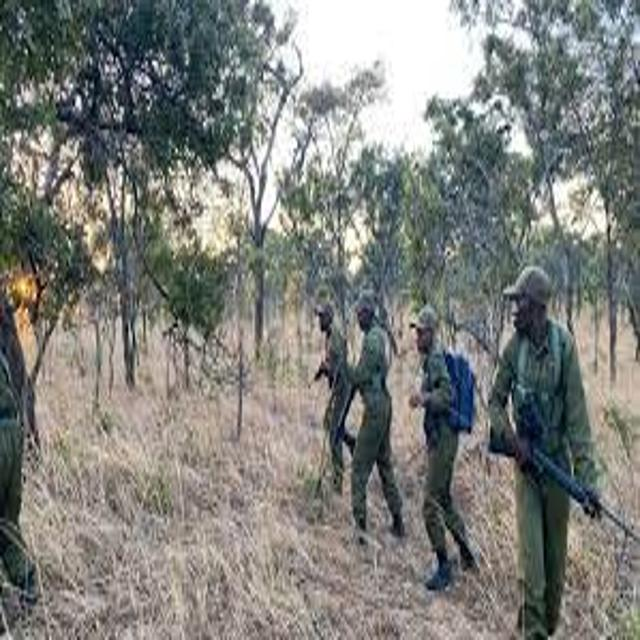gun: (470, 407, 640, 561)
ranger: (453, 244, 640, 637), (312, 277, 437, 559), (386, 281, 495, 598), (261, 275, 383, 502)
